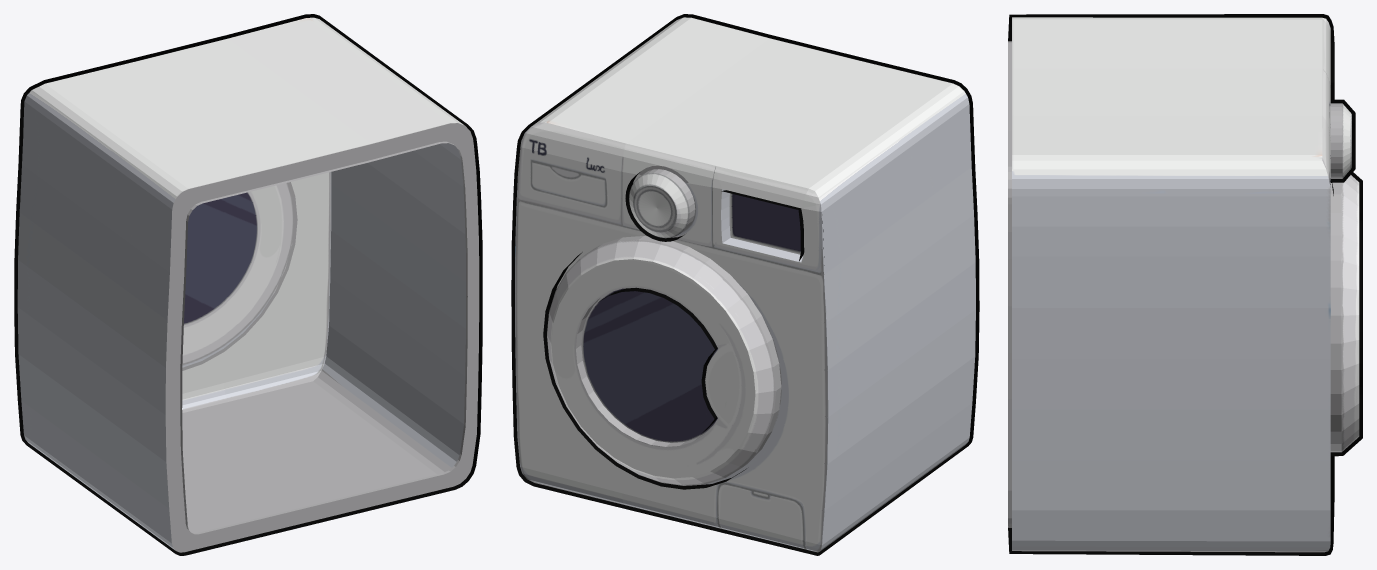
Rendered from WashingMachine2.fbx.
3 renders of one model, left to right at view 1: azimuth 30°, elevation 25°; view 2: azimuth 150°, elevation 25°; view 3: azimuth 270°, elevation 25°, orthographic. The views are drawn at different scales.
Visible parts, largest first — view 1: WashingMachine.001; view 2: WashingMachine.001; view 3: WashingMachine.001.
Boxes of the visible parts, x1,y1,x2,y2 form: WashingMachine.001: (14, 14, 482, 555); WashingMachine.001: (511, 14, 979, 555); WashingMachine.001: (1008, 14, 1362, 555).
Bounding box in the file's own units: 81.09 × 90.18 × 72.7.
